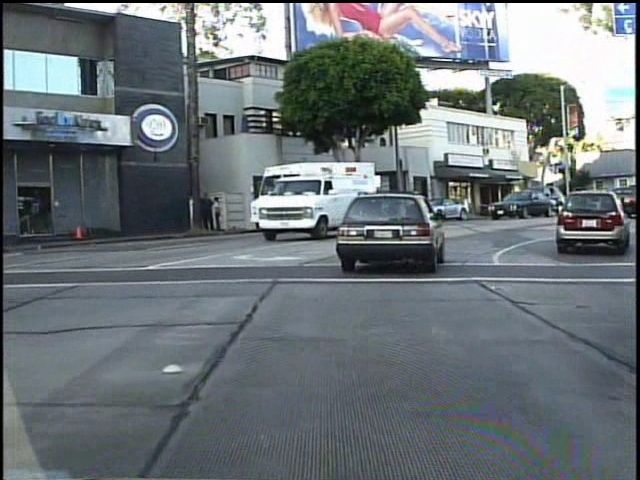person: (199, 191, 216, 234), (209, 194, 224, 232)
